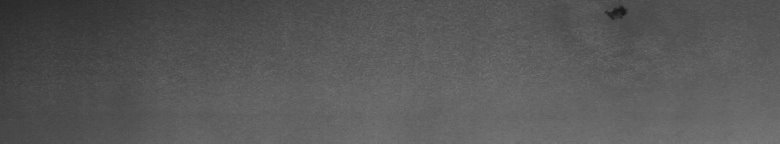fi: (605, 4, 631, 24)
